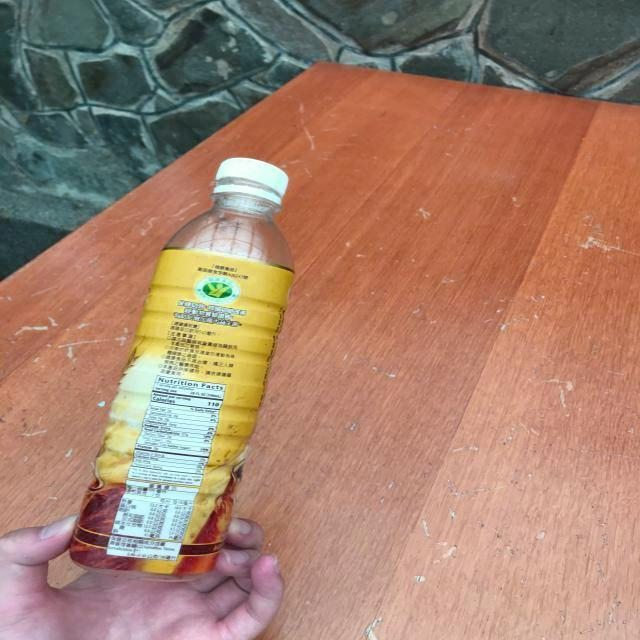bottle: (70, 158, 296, 583)
